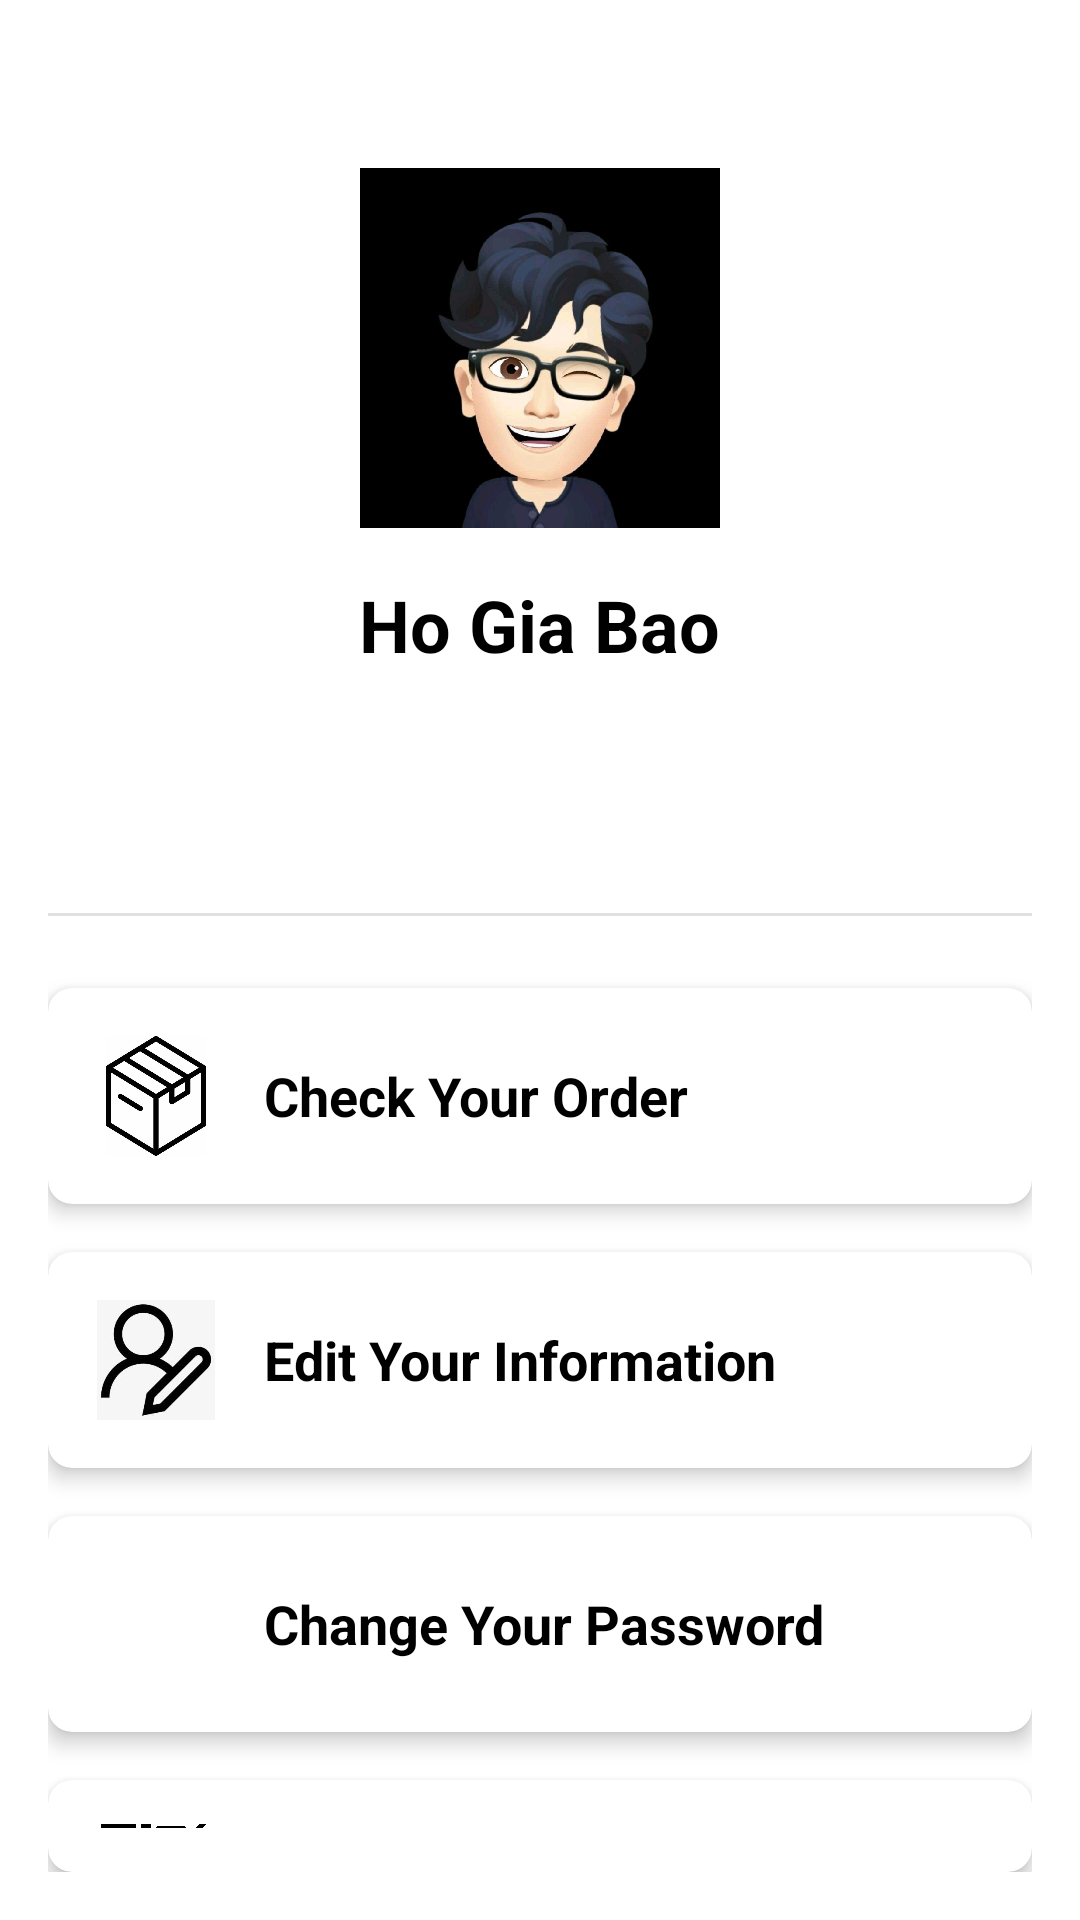

Screen size 1080px x 1920px. Icon name, then its center in pixels as [x,y]:
edituser: [156,1360]
packaging: [156,1096]
